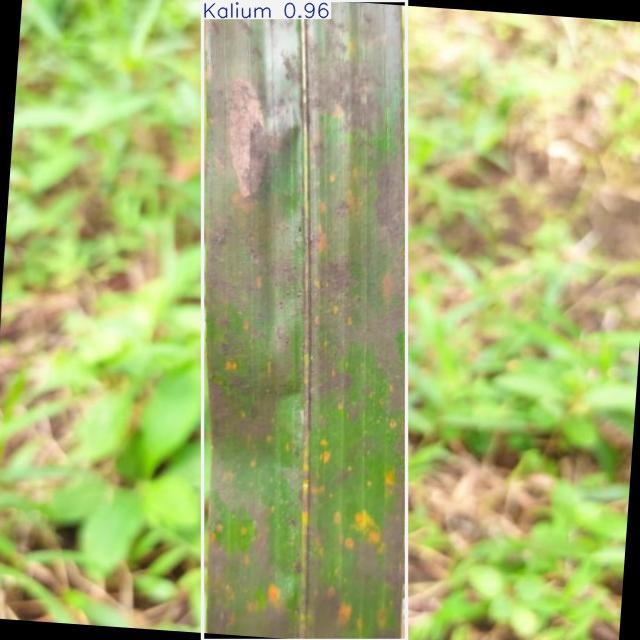Kalium: (202, 0, 407, 640)
